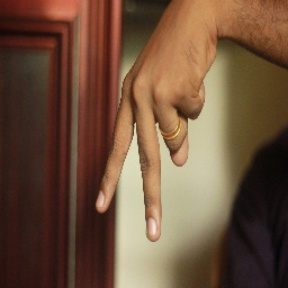Y: (93, 76, 207, 243)
